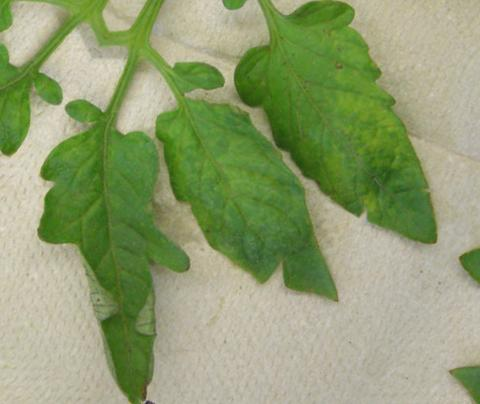Tomato leaf mosaic virus: (0, 98, 275, 404), (191, 0, 480, 267), (123, 83, 395, 316)
